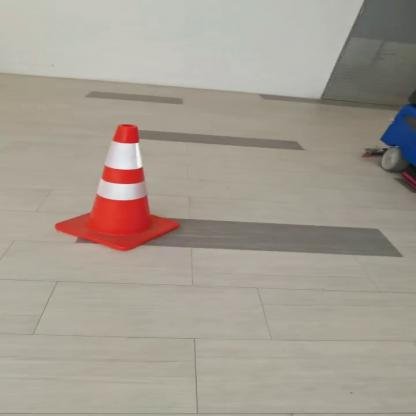cone: (27, 113, 198, 257)
